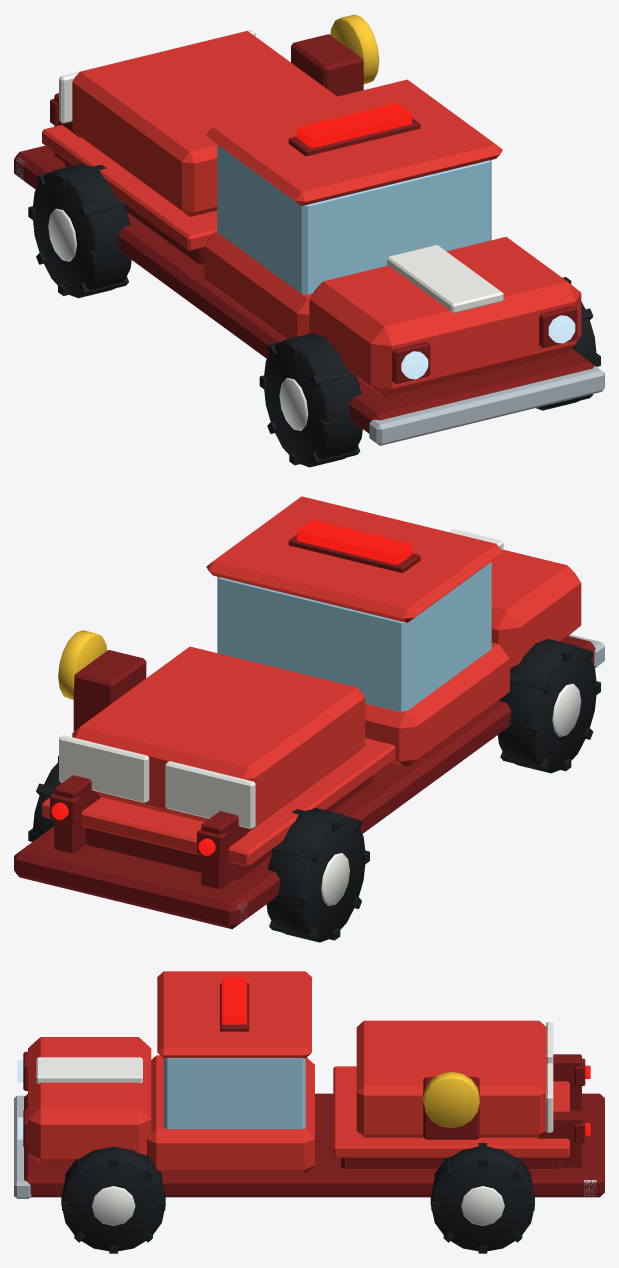
Rendered from FTF_Vehicle_FirePickup_Red_5_6m.glb.
The picture shows the model from 3 angles, top to bottom: view 1: azimuth 30°, elevation 25°; view 2: azimuth 150°, elevation 25°; view 3: azimuth 270°, elevation 25°; orthographic projection. The views are drawn at different scales.
Parts seen in each view (by area): view 1: FTF_Vehicle_FirePickup_Red_5_6m_Static, Wheel_RL_Mesh, Wheel_FL_Mesh, Wheel_FR_Mesh; view 2: FTF_Vehicle_FirePickup_Red_5_6m_Static, Wheel_RL_Mesh, Wheel_FL_Mesh, Wheel_RR_Mesh; view 3: FTF_Vehicle_FirePickup_Red_5_6m_Static, Wheel_RR_Mesh, Wheel_FR_Mesh.
Boxes of the visible parts, bbox=[...] form: FTF_Vehicle_FirePickup_Red_5_6m_Static: bbox=[14, 14, 604, 445]; Wheel_RL_Mesh: bbox=[28, 163, 131, 298]; Wheel_FL_Mesh: bbox=[259, 333, 362, 467]; Wheel_FR_Mesh: bbox=[536, 277, 600, 410]; FTF_Vehicle_FirePickup_Red_5_6m_Static: bbox=[14, 496, 604, 929]; Wheel_RL_Mesh: bbox=[266, 808, 369, 942]; Wheel_FL_Mesh: bbox=[498, 639, 600, 773]; Wheel_RR_Mesh: bbox=[28, 755, 61, 841]; FTF_Vehicle_FirePickup_Red_5_6m_Static: bbox=[14, 971, 604, 1198]; Wheel_RR_Mesh: bbox=[430, 1143, 534, 1253]; Wheel_FR_Mesh: bbox=[61, 1146, 165, 1253].
Bounding box in the file's own units: 2.5 × 2.15 × 5.66.
